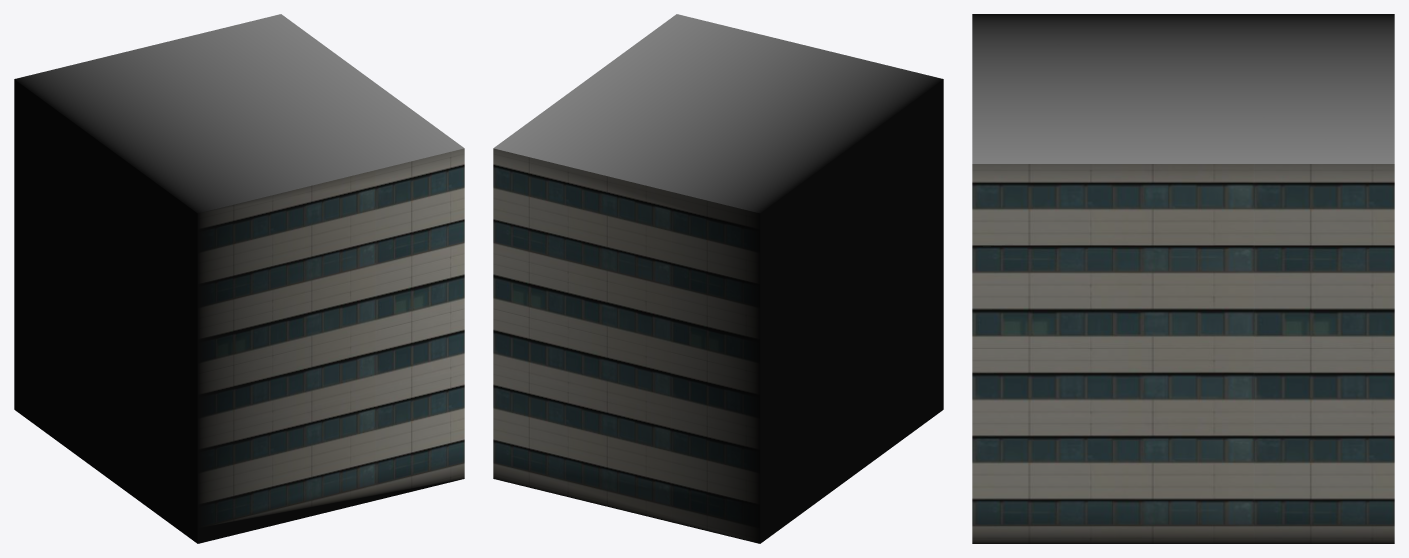
File: AMB_BILL02.glb
3 views of the same model, side by side, from view 1: azimuth 30°, elevation 25°; view 2: azimuth 150°, elevation 25°; view 3: azimuth 270°, elevation 25° (orthographic). The views are drawn at different scales.
Parts seen in each view (by area): view 1: obj49; view 2: obj49; view 3: obj49.
Boxes of the visible parts, box(x1,y1,x2,y2) form: obj49: box(14, 14, 464, 543); obj49: box(493, 14, 943, 543); obj49: box(972, 14, 1394, 543).
Bounding box in the file's own units: 42.52 × 50.3 × 50.63.
Materials: 3 (3 with a texture image).
